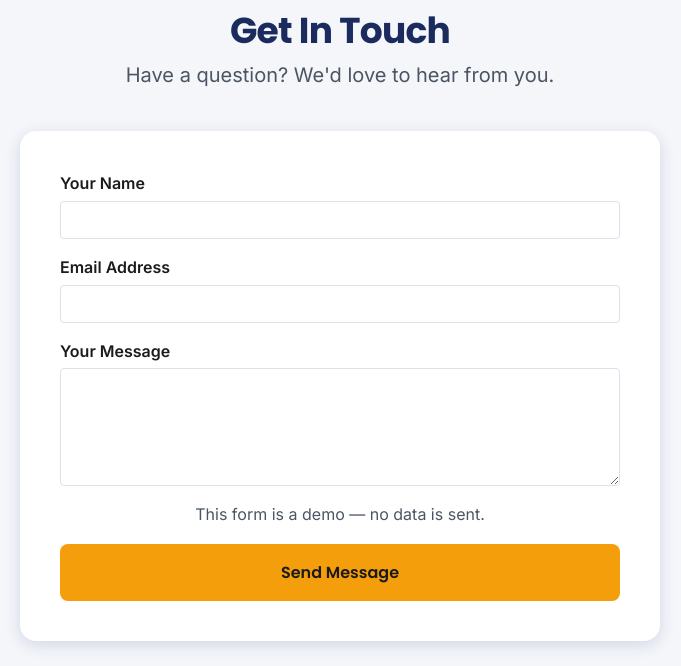
Scenario: ContactSection › shows success message after valid form submission
This screenshot has width=681, height=666.
Step 1. Type "Alice Smith" into the field labelled "Your Name" → (340, 220), box top-left (60, 201), bottom-right (620, 239)
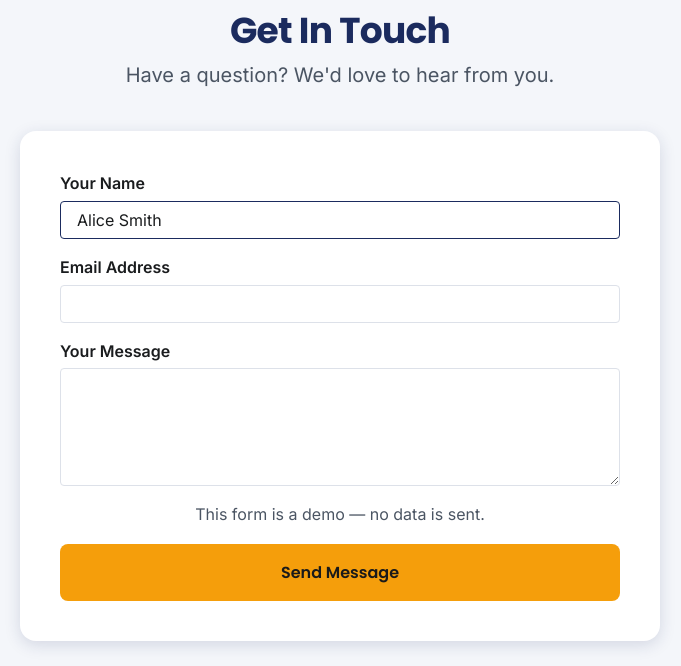
Step 2. Type "alice@example.com" into the field labelled "Email Address" → (340, 304), box top-left (60, 285), bottom-right (620, 323)
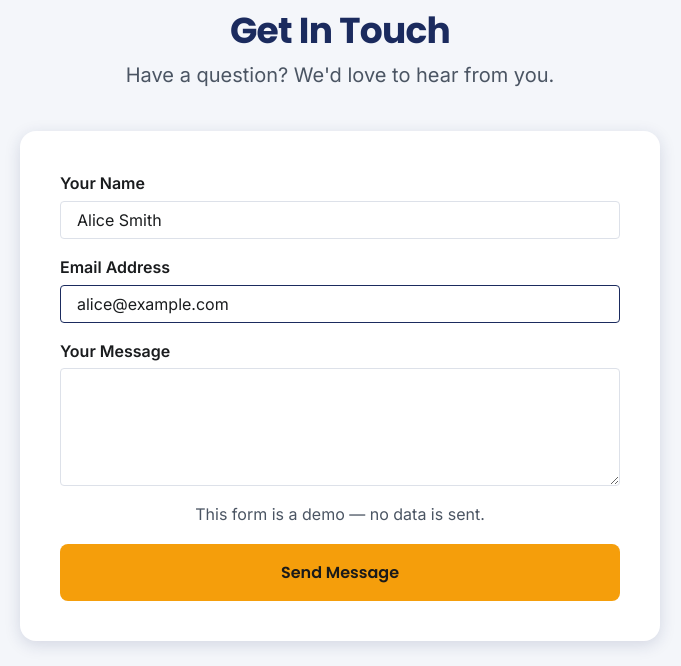
Step 3. Type "Hello, I have a question." into the text box labelled "Your Message" → (340, 427), box top-left (60, 368), bottom-right (620, 486)
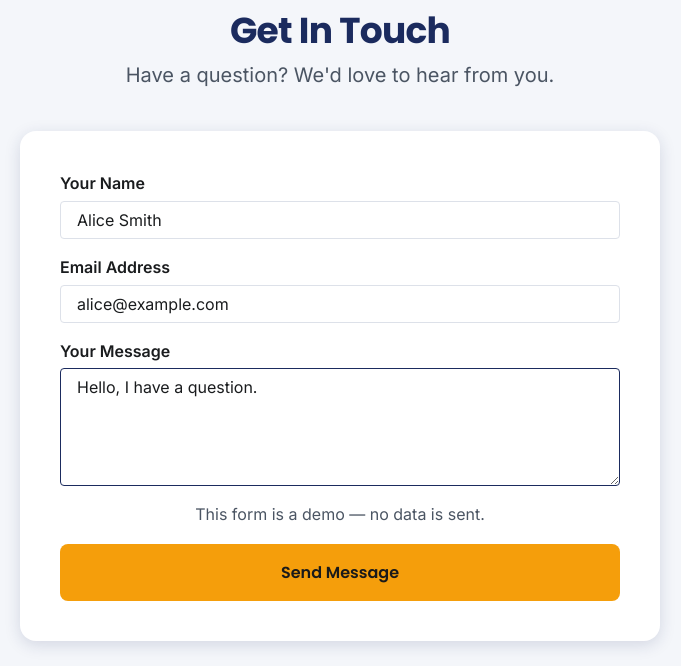
Step 4. Click the button "Send Message" → click(340, 572), box top-left (60, 544), bottom-right (620, 601)
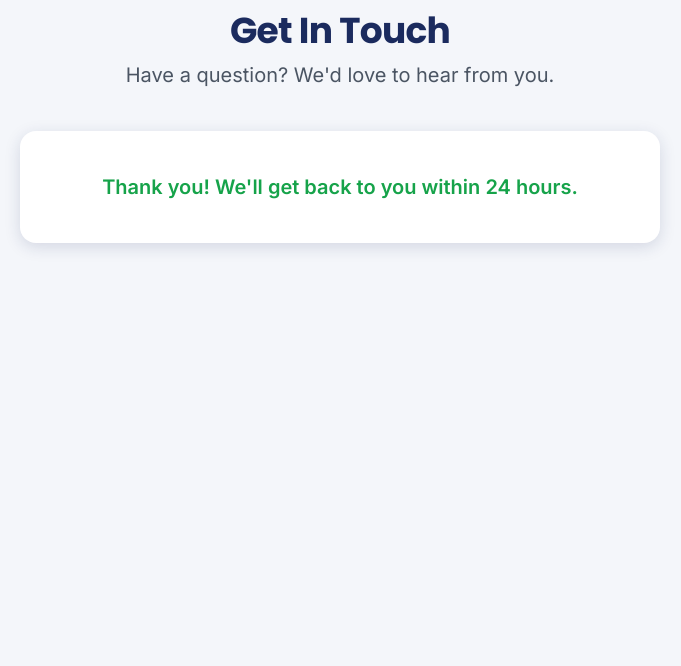
Check: the text "Thank you! We'll get back to you within 24 hours." is shown, box top-left (20, 131), bottom-right (660, 243)
Check: the button "Send Message" is gone
